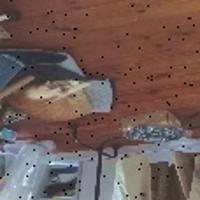asleep: (7, 80, 91, 121)
